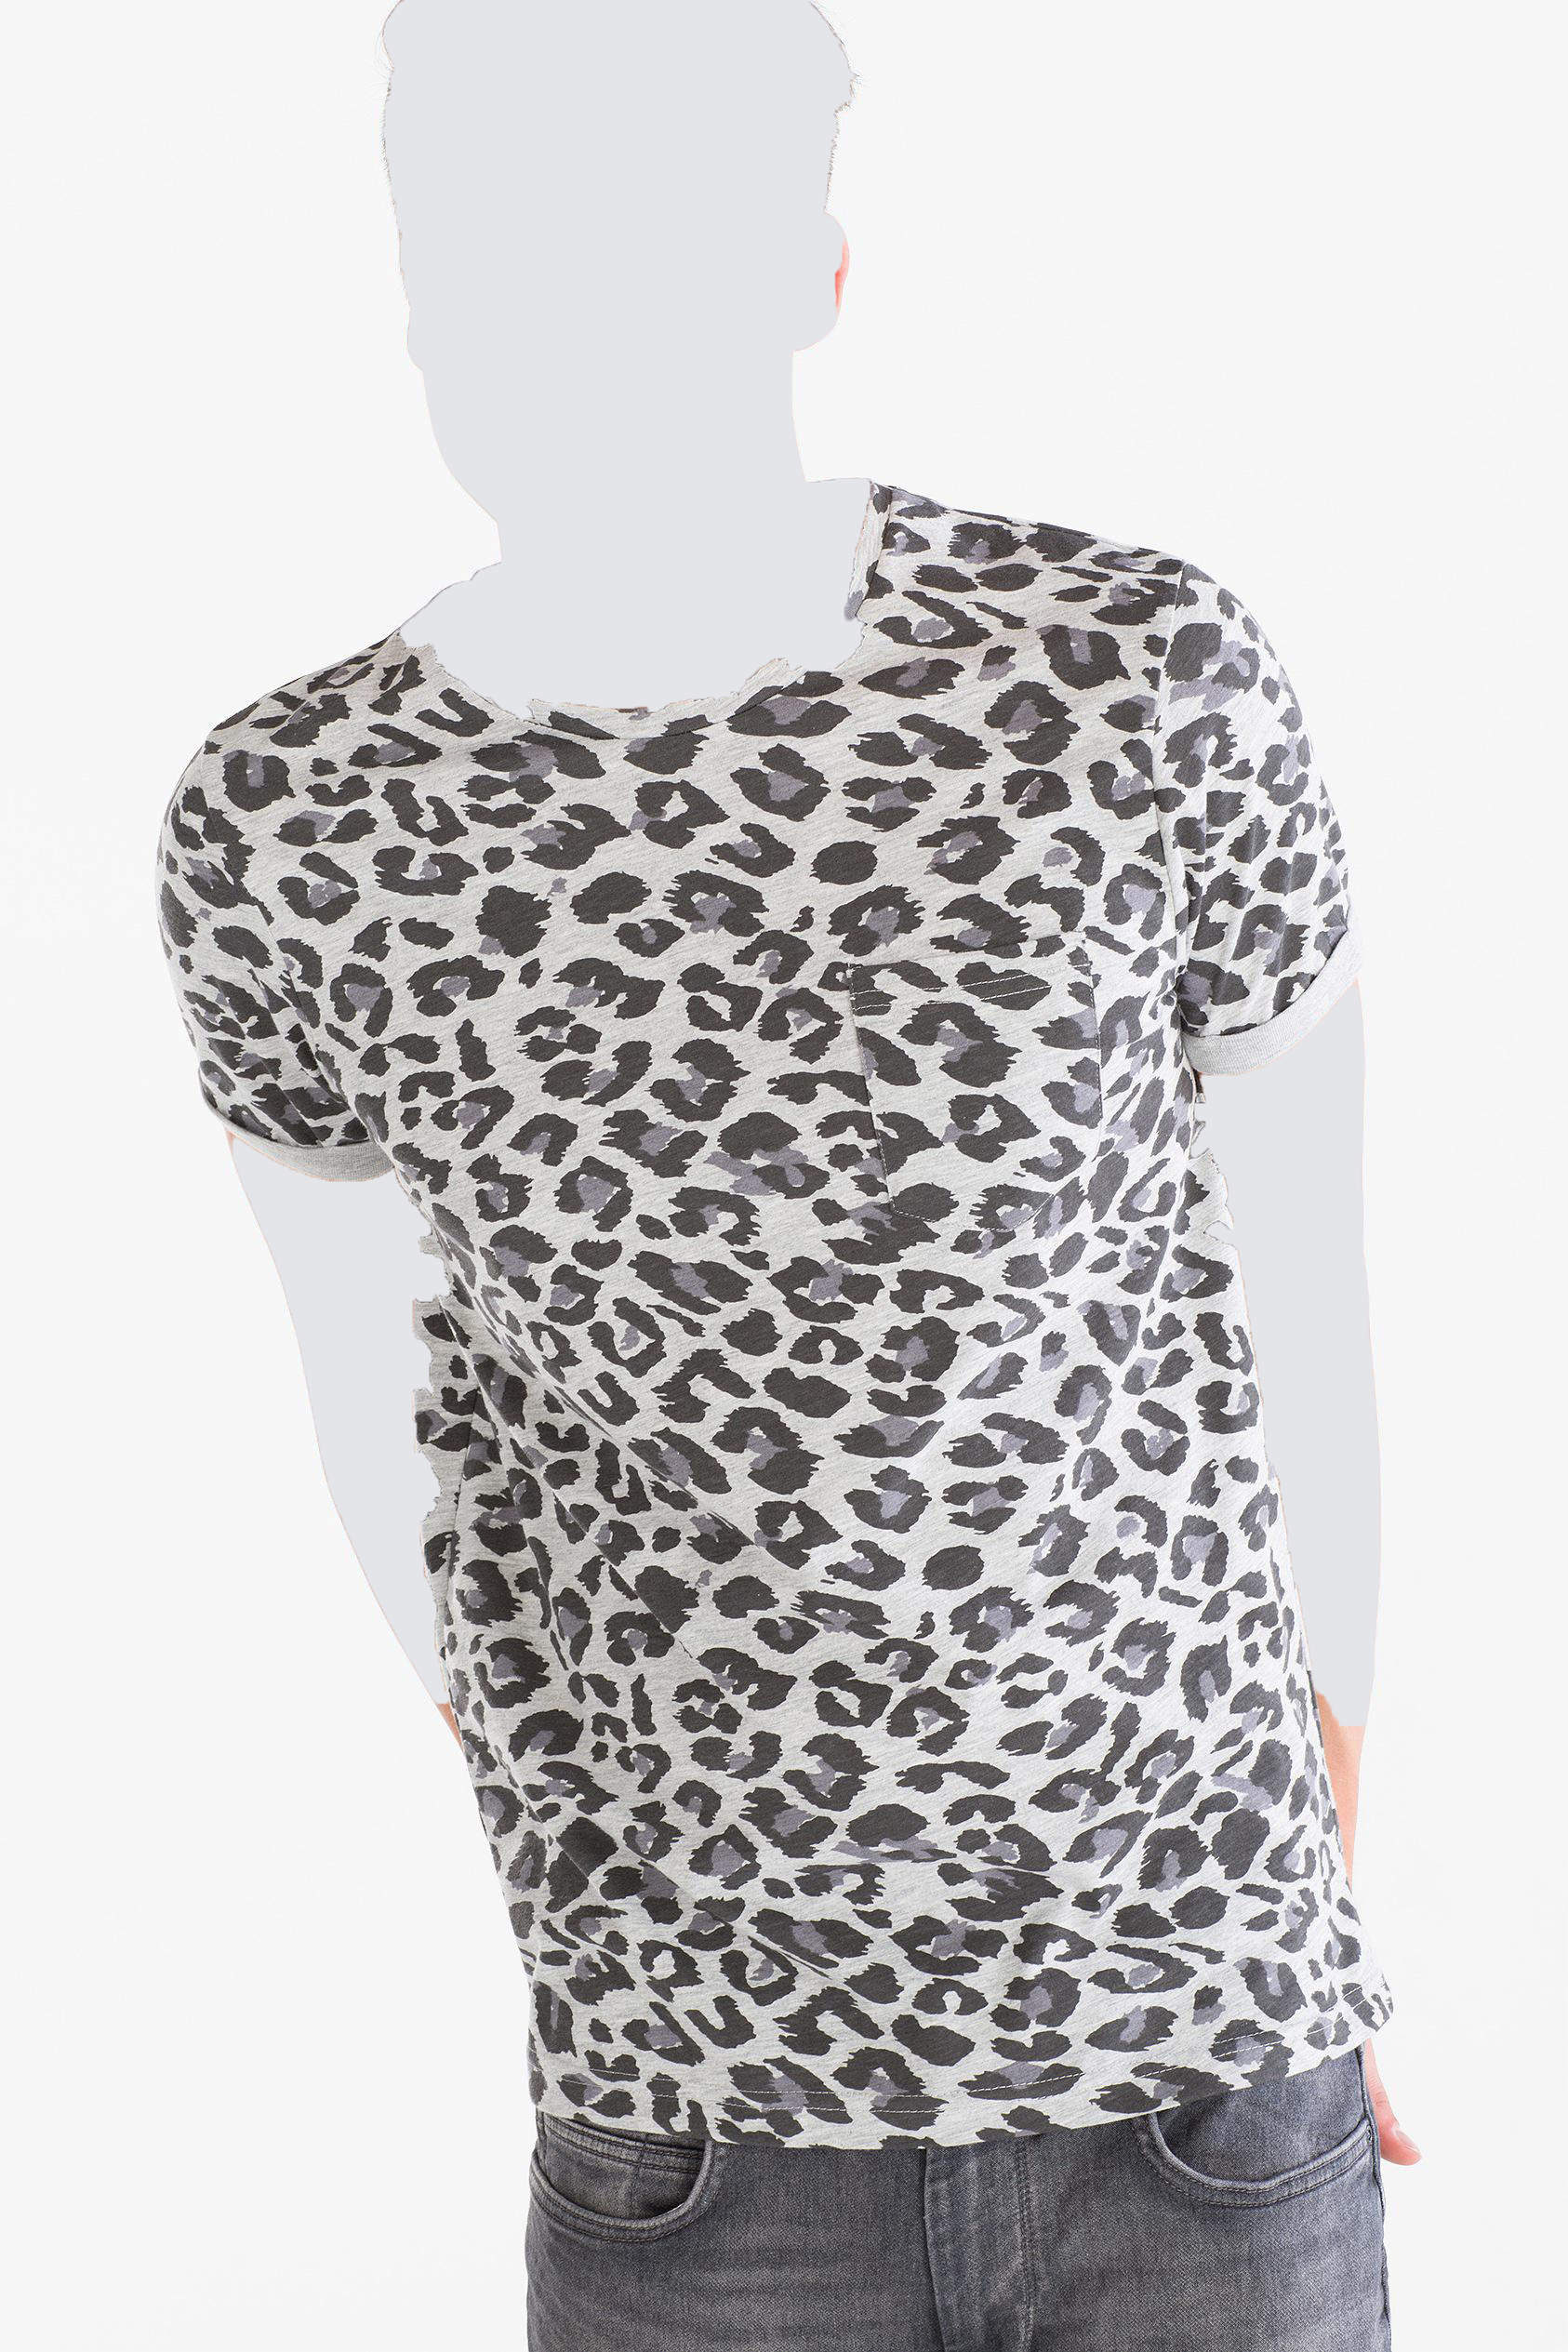teeshirt: (115, 485, 1493, 2131)
